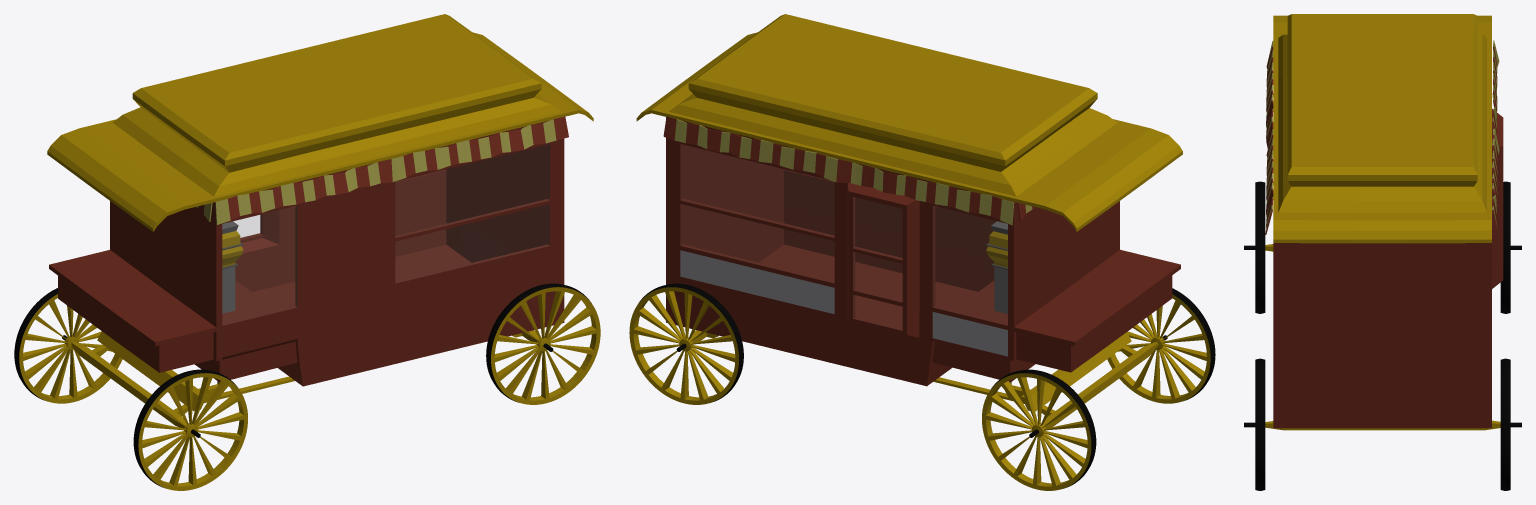
The model's file is PopcornCart_Proxy.fbx.
The picture shows the model from 3 angles, left to right: view 1: azimuth 30°, elevation 25°; view 2: azimuth 150°, elevation 25°; view 3: azimuth 270°, elevation 25°; orthographic projection. The views are drawn at different scales.
Parts seen in each view (by area): view 1: PopornCartBody, Banner_Left, Wheel_LF, Wheel_LR, Wheel_RF, UnderCarriage, PopcornMaker; view 2: PopornCartBody, Banner_Right, Wheel_RR, Wheel_RF, Wheel_LF, UnderCarriage, PopcornMaker; view 3: PopornCartBody, Wheel_LR, Wheel_RR, Wheel_LF, Banner_Left, Wheel_RF, Banner_Right, UnderCarriage.
Boxes of the visible parts, x1,y1,x2,y2 form: PopornCartBody: [47, 14, 593, 386]; Banner_Left: [215, 116, 568, 224]; Wheel_LF: [133, 369, 247, 490]; Wheel_LR: [486, 283, 600, 404]; Wheel_RF: [14, 288, 122, 403]; UnderCarriage: [71, 330, 539, 428]; PopcornMaker: [222, 221, 243, 313]; PopornCartBody: [636, 14, 1182, 386]; Banner_Right: [663, 116, 1014, 225]; Wheel_RR: [629, 283, 743, 404]; Wheel_RF: [982, 369, 1096, 490]; Wheel_LF: [1107, 288, 1215, 403]; UnderCarriage: [690, 330, 1157, 428]; PopcornMaker: [986, 221, 1007, 313]; PopornCartBody: [1273, 14, 1503, 428]; Wheel_LR: [1244, 358, 1267, 490]; Wheel_RR: [1500, 358, 1521, 490]; Wheel_LF: [1244, 181, 1266, 313]; Banner_Left: [1265, 41, 1273, 234]; Wheel_RF: [1500, 181, 1521, 313]; Banner_Right: [1492, 40, 1499, 235]; UnderCarriage: [1265, 244, 1500, 430].
Bounding box in the file's own units: 414 × 265 × 208.
